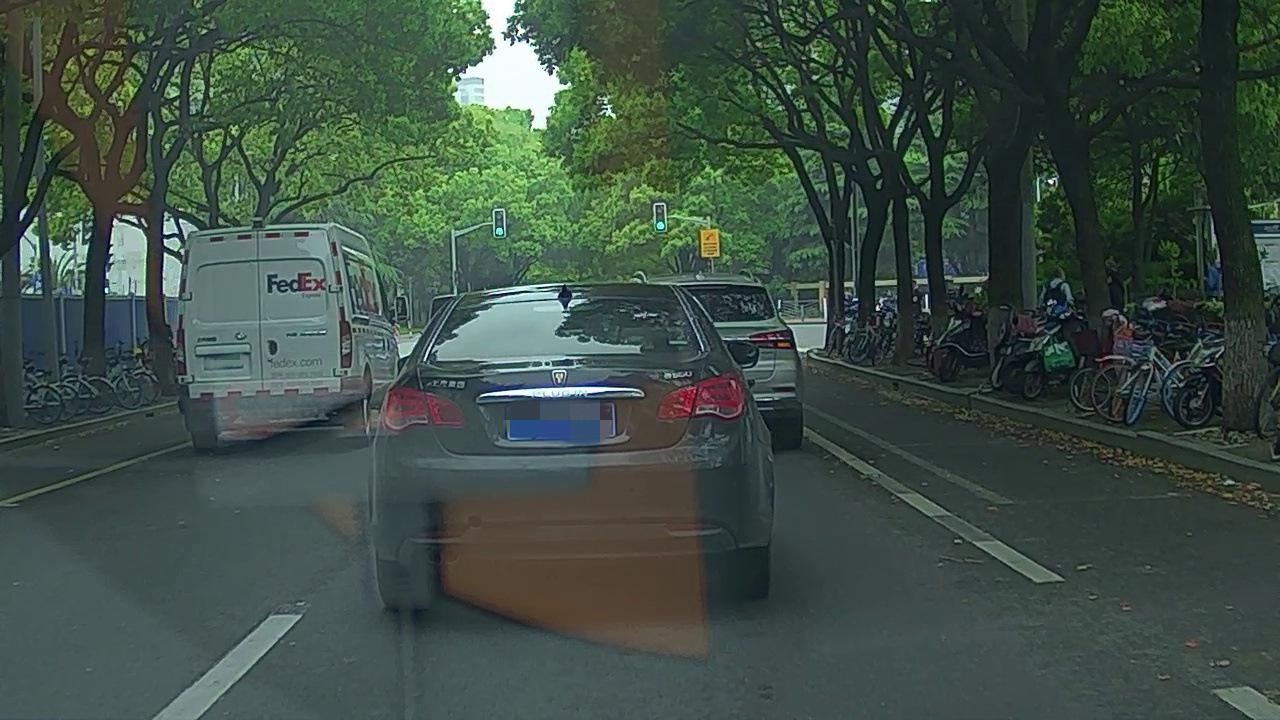traffic_light: (655, 204, 666, 232), (495, 212, 504, 238)
